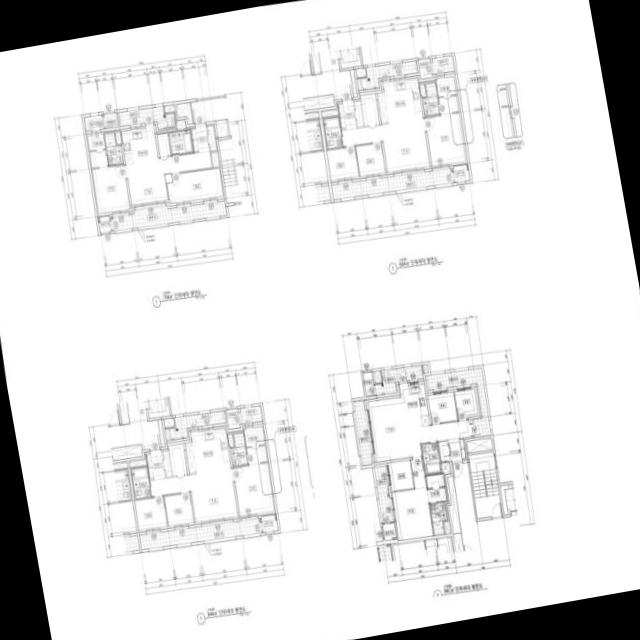background: (0, 0, 640, 640)
space_balconi: (426, 367, 490, 437), (331, 167, 453, 199), (139, 517, 261, 549), (109, 200, 226, 230), (164, 410, 225, 440), (356, 60, 417, 90), (374, 364, 422, 395), (117, 106, 175, 129), (353, 399, 372, 465), (374, 465, 392, 522), (431, 55, 454, 73), (239, 405, 262, 423), (83, 114, 103, 130)
space_bedroom: (392, 457, 432, 540), (424, 112, 465, 165), (232, 462, 273, 515), (166, 167, 222, 203), (92, 164, 129, 213), (326, 146, 358, 179), (134, 496, 166, 529), (163, 492, 193, 525), (355, 142, 385, 175), (427, 391, 456, 423), (454, 388, 477, 419)
space_dressroom: (243, 426, 266, 463), (435, 76, 458, 113), (87, 131, 107, 167), (425, 473, 446, 502)
space_front: (190, 123, 215, 153), (145, 449, 164, 479), (337, 99, 356, 129), (447, 437, 465, 459)
space_kitchen: (184, 427, 230, 473), (376, 77, 422, 123), (120, 123, 157, 162), (398, 382, 429, 428)
space_living_room: (367, 396, 470, 461), (341, 118, 429, 171), (149, 468, 237, 521), (125, 150, 211, 204)
space_multipurpose_space: (387, 459, 413, 490)
space_other: (446, 475, 460, 533), (168, 443, 186, 475), (360, 93, 378, 125), (466, 437, 492, 452), (176, 102, 192, 124), (156, 132, 170, 156), (417, 58, 432, 78), (362, 371, 374, 396), (226, 408, 240, 428), (437, 440, 449, 461), (102, 112, 117, 128), (354, 100, 363, 126), (162, 450, 171, 476), (214, 119, 227, 137), (157, 419, 165, 446), (349, 69, 356, 96), (320, 109, 338, 117), (128, 459, 146, 467), (210, 151, 218, 166), (163, 417, 173, 427), (355, 67, 365, 77), (440, 461, 449, 472), (373, 370, 381, 382), (114, 131, 121, 144), (175, 120, 185, 129), (163, 104, 174, 112), (419, 83, 425, 96), (443, 521, 449, 533), (227, 434, 233, 446), (422, 364, 427, 372)
space_outdoor_room: (260, 514, 277, 532), (452, 164, 469, 182), (382, 522, 395, 540), (97, 215, 110, 232)
space_staircase: (468, 451, 501, 518)
space_toilet: (103, 132, 123, 165), (421, 442, 441, 474), (322, 116, 342, 148), (130, 466, 150, 498), (168, 129, 192, 154), (429, 501, 446, 535), (230, 432, 247, 465), (422, 82, 439, 115)
